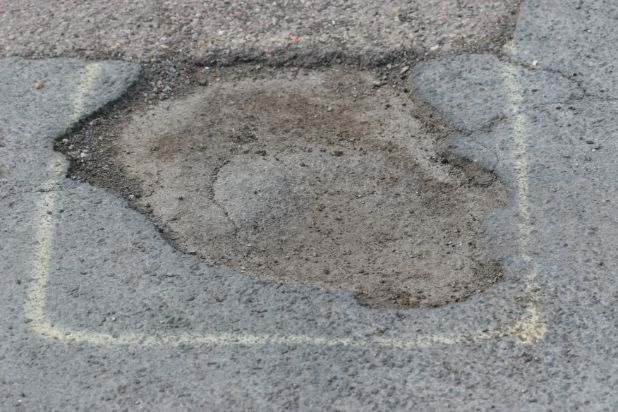pothole: (50, 41, 513, 313)
